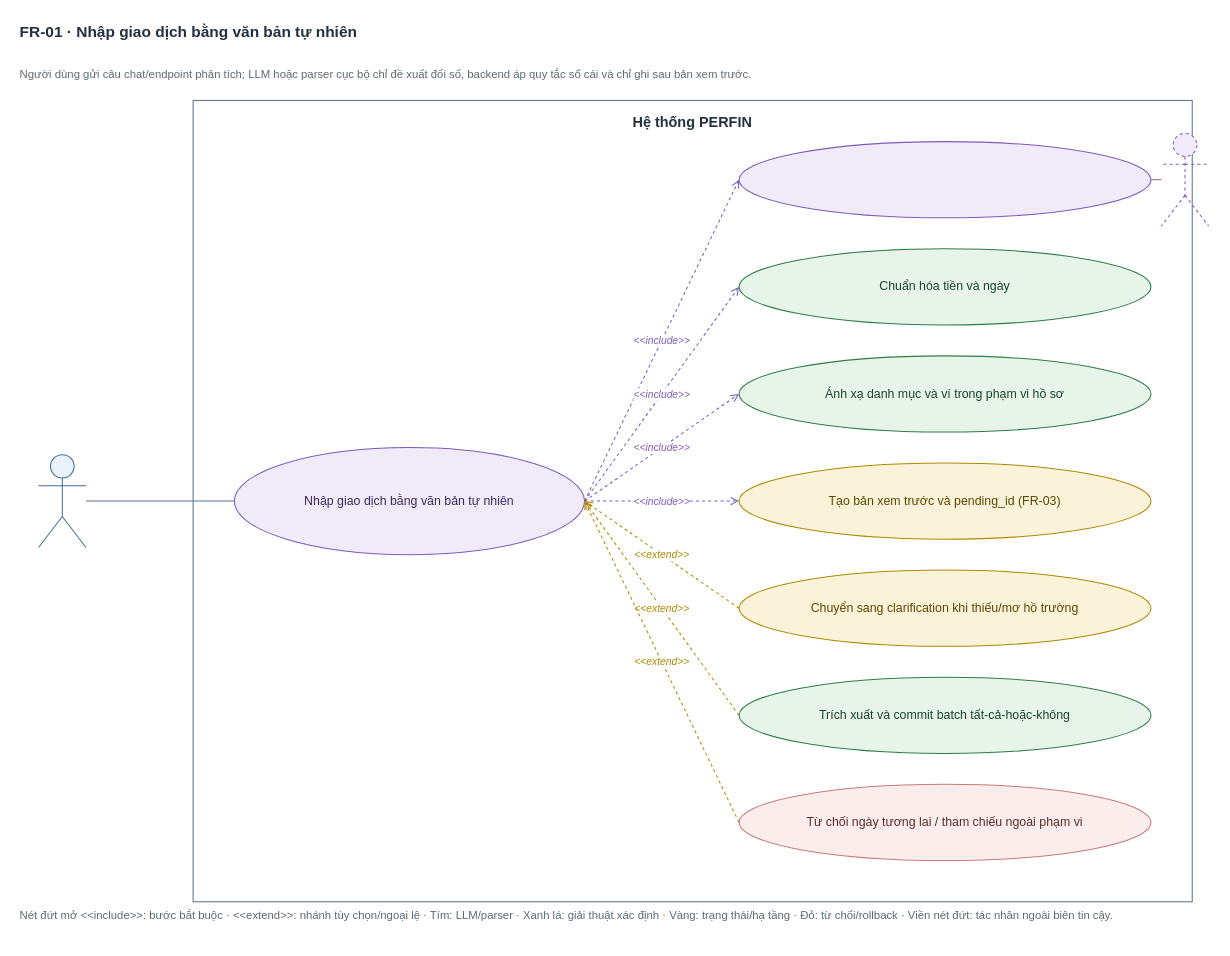
Some shapes in this 1230 by 956 pixel diagram are drawn without their labels. Here are the shapes that lost their labels. From the top down, the centre of each, then its label:
At [944,179]: "Trích xuất trường bằng LLM structured output / parser cục bộ".
At [1184,179]: "Dịch vụ AI ngoài (LLM / parser)".
At [62,500]: "Người dùng".
